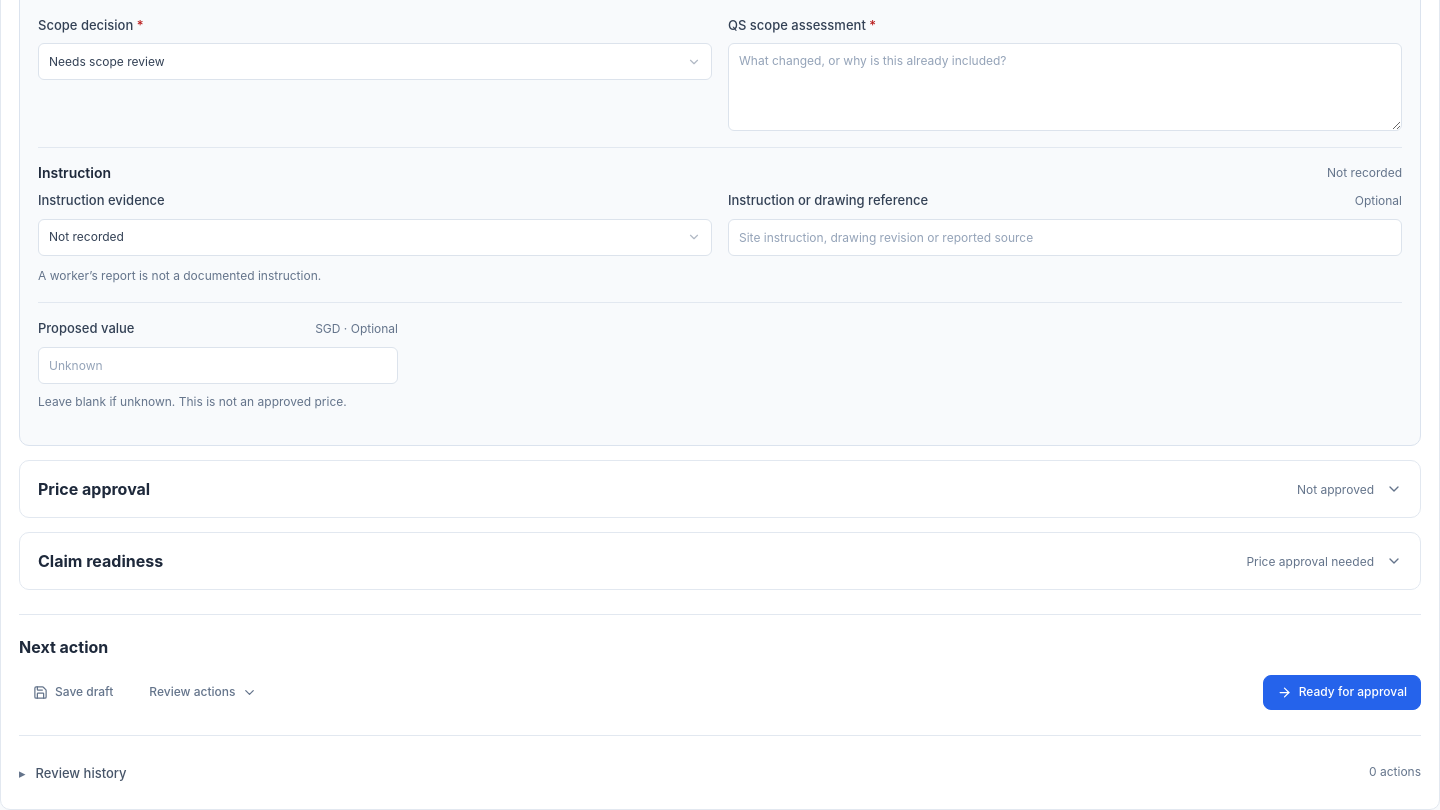
compact VO evidence linking › explains when there are no eligible destinations without creating a case
This screenshot has width=1440, height=810.
(page scrolled)
Click the button "Review actions".
click(203, 692)  # box [135, 675, 271, 709]
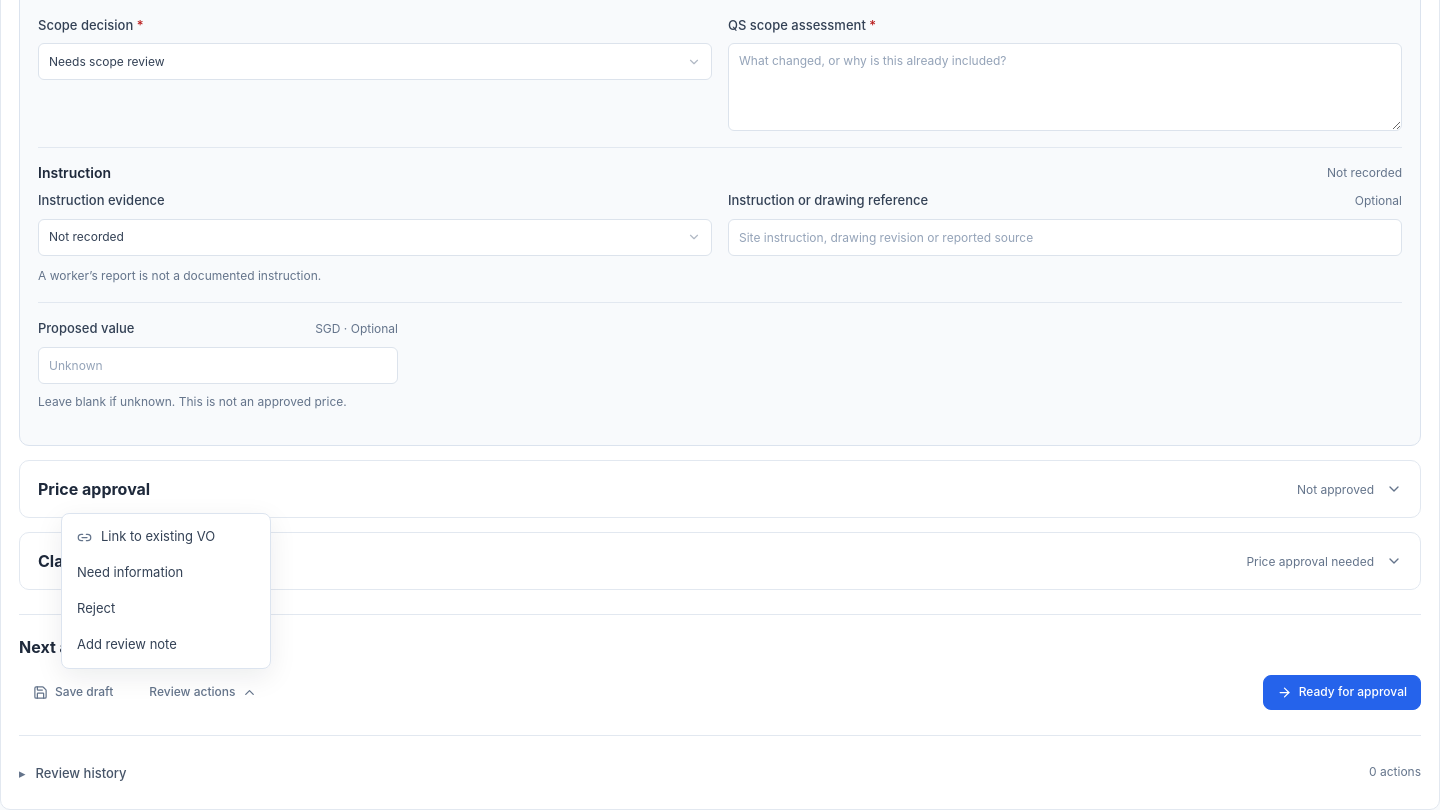
Click the menu item "Link to existing VO".
click(146, 536)  # box [77, 528, 215, 545]
(page scrolled)
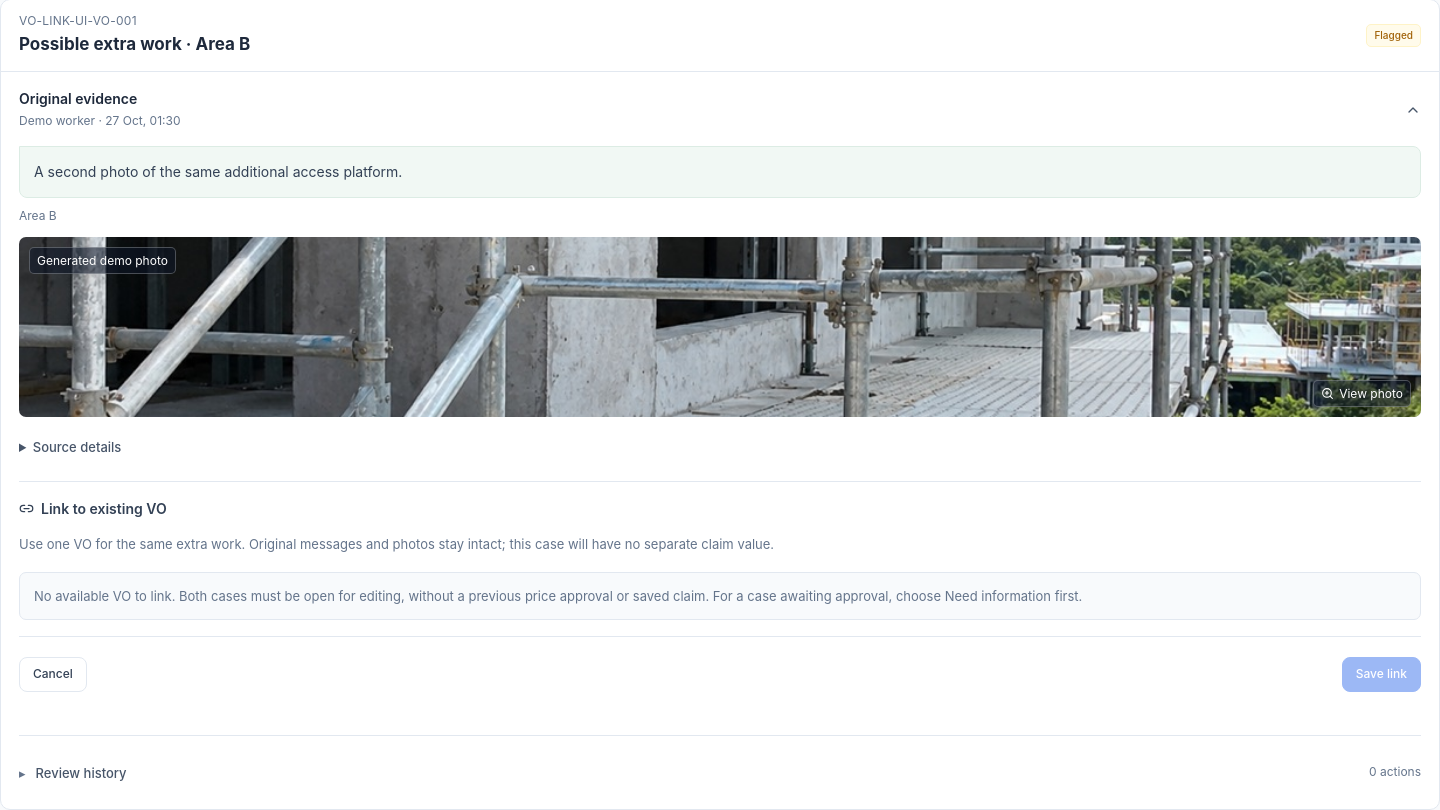
Expected: the text "No available VO to link" is shown, [34, 588, 1082, 604]
Expected: the button "Save link" is disabled, [1342, 657, 1421, 692]
